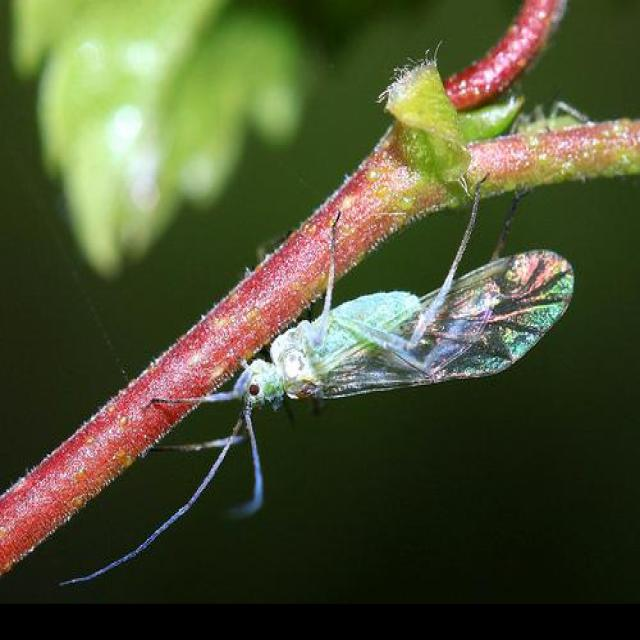Aphids: (96, 202, 592, 576)
